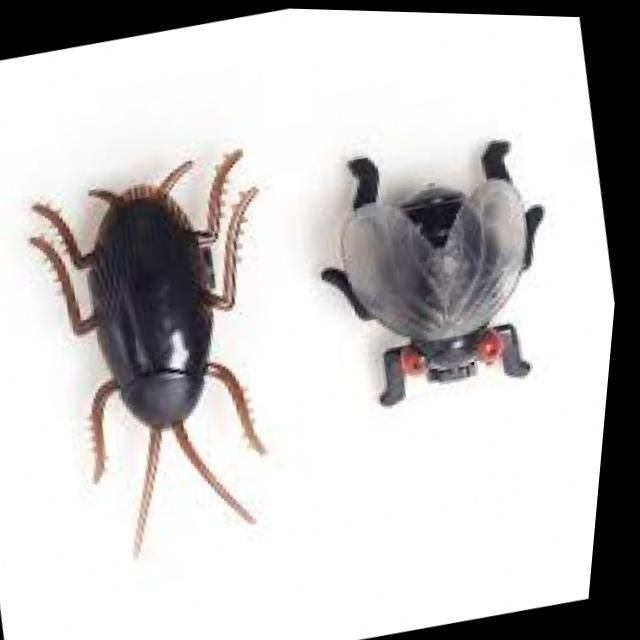Cockroach: (0, 114, 383, 584)
